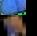slime: (0, 0, 26, 15)
